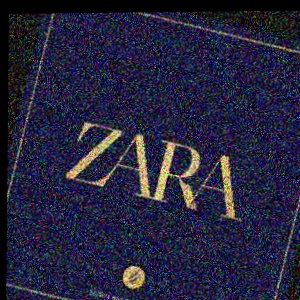zara: (249, 57, 288, 150)
